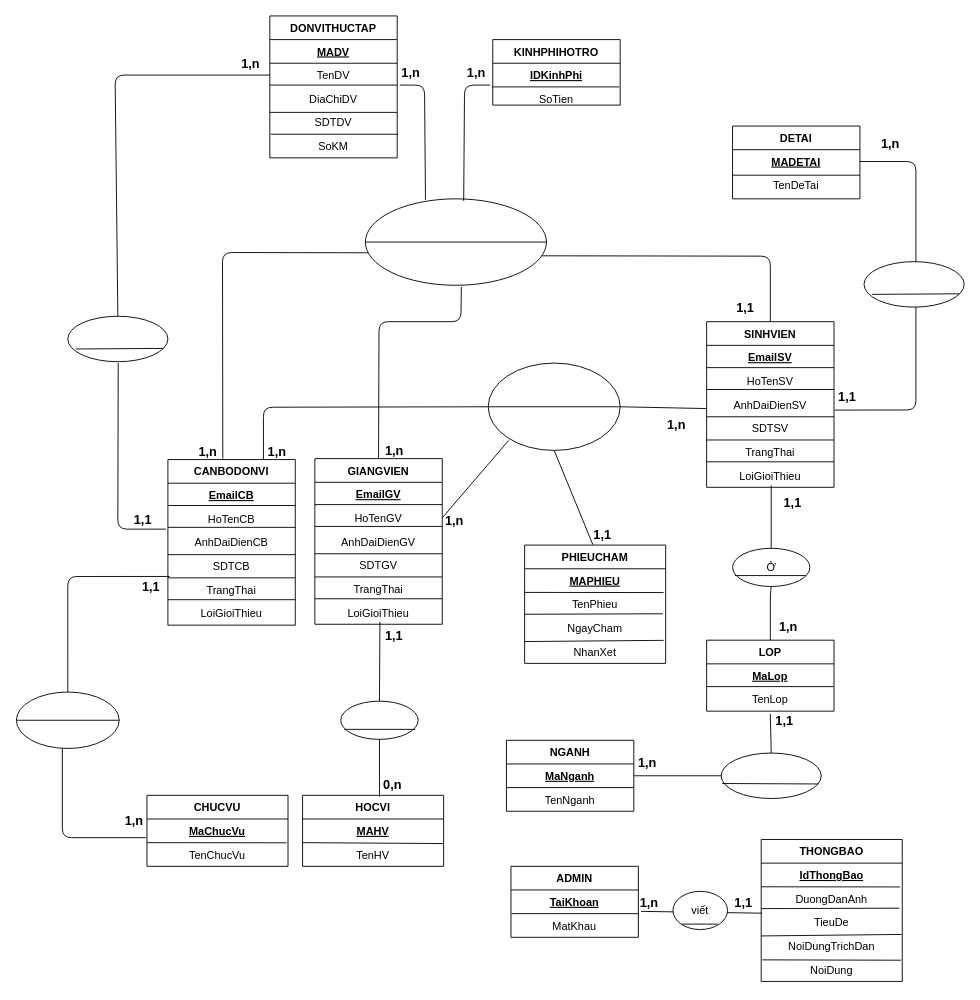
Some shapes in this 980 by 1000 pixel diagram are drawn without their labels. The shapes that lost their labels are listed below. From the top down, each one's centre as x and y in pixels, then its label:
[455,241]: Thực Tập Ngày bắt đầu thực tập Ngày kết thúc thực tập
[913,284]: Thực hiện
[117,338]: Là thành viên
[553,406]: Kết Quả SoDiem
[67,719]: Đảm nhận Ngày đảm nhận
[379,719]: Có
[770,775]: Nằm trong
